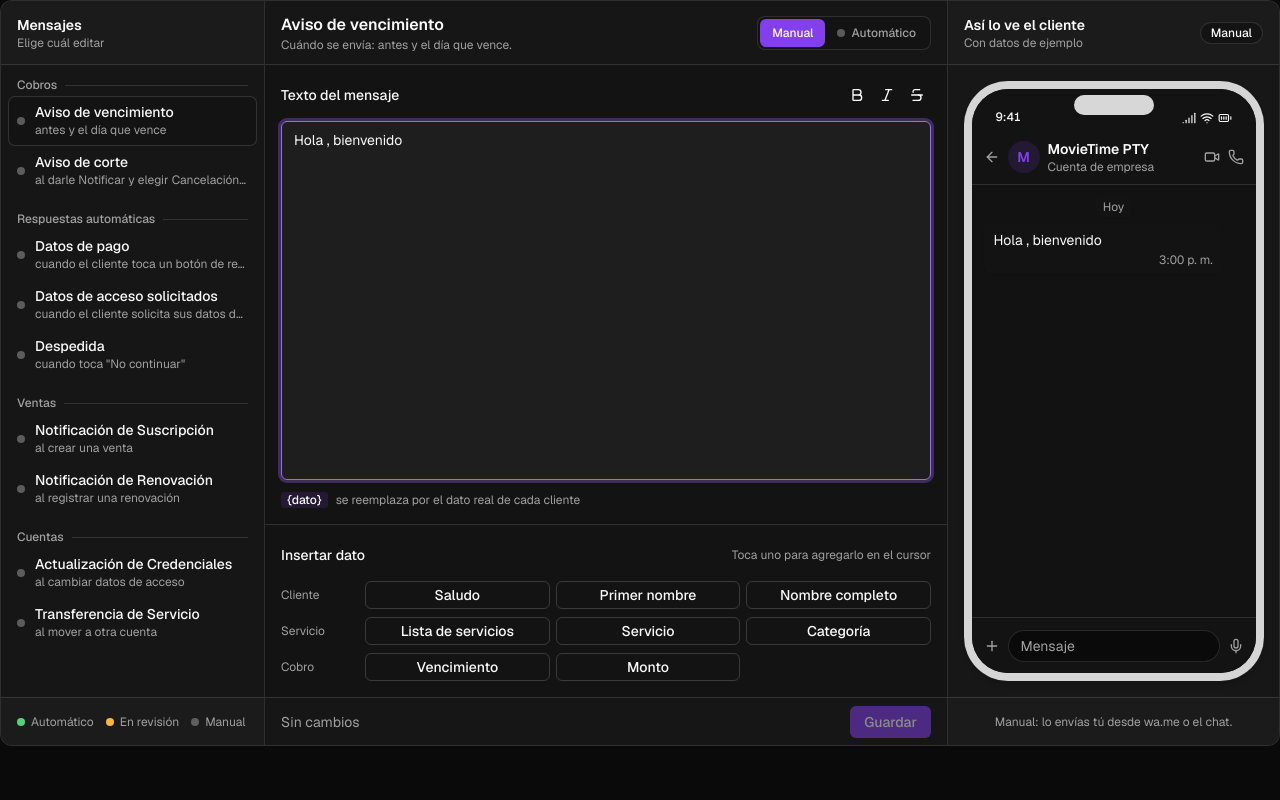
Test: TemplateEditor › inserts only the relevant data at the cursor position
Click the button "Primer nombre" at coordinates (648, 595), box [556, 581, 740, 609]
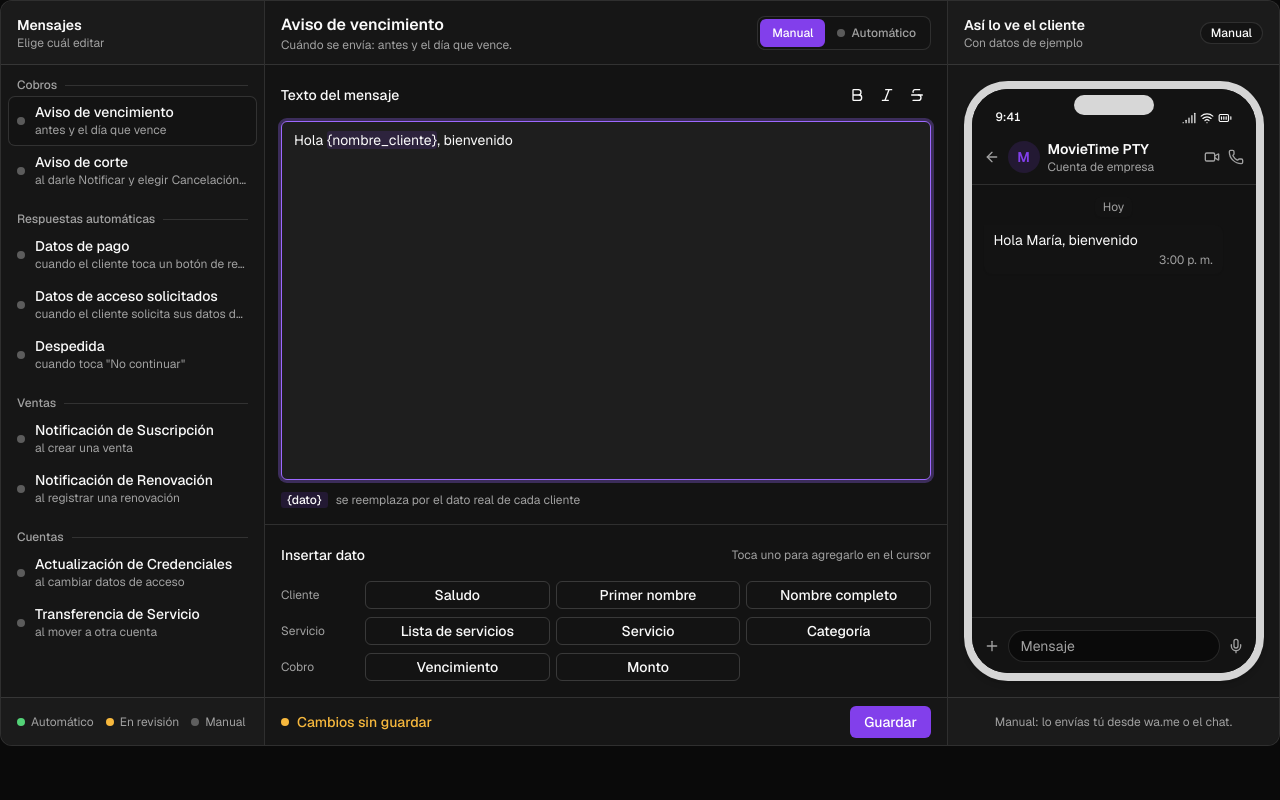
Result: the text box holds "Hola {nombre_cliente}, bienvenido" at [281, 121, 931, 480]
